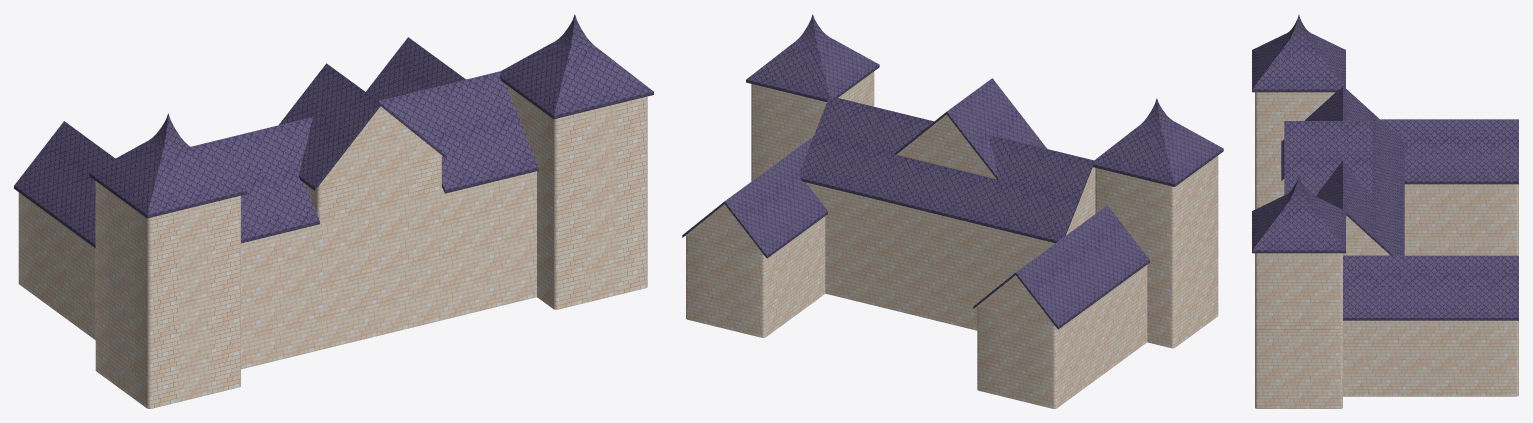
File: Building_Symmetry_Full.fbx
The picture shows the model from 3 angles, left to right: view 1: azimuth 30°, elevation 25°; view 2: azimuth 150°, elevation 25°; view 3: azimuth 270°, elevation 25°; orthographic projection. The views are drawn at different scales.
Visible parts, largest first — view 1: Building_Symmetry; view 2: Building_Symmetry; view 3: Building_Symmetry.
Part boxes in pixels (x1,y1,x2,y2): Building_Symmetry: (14,14,653,408); Building_Symmetry: (682,14,1223,408); Building_Symmetry: (1252,15,1518,408).
Bounding box in the file's own units: 3240 × 1620 × 1820.
